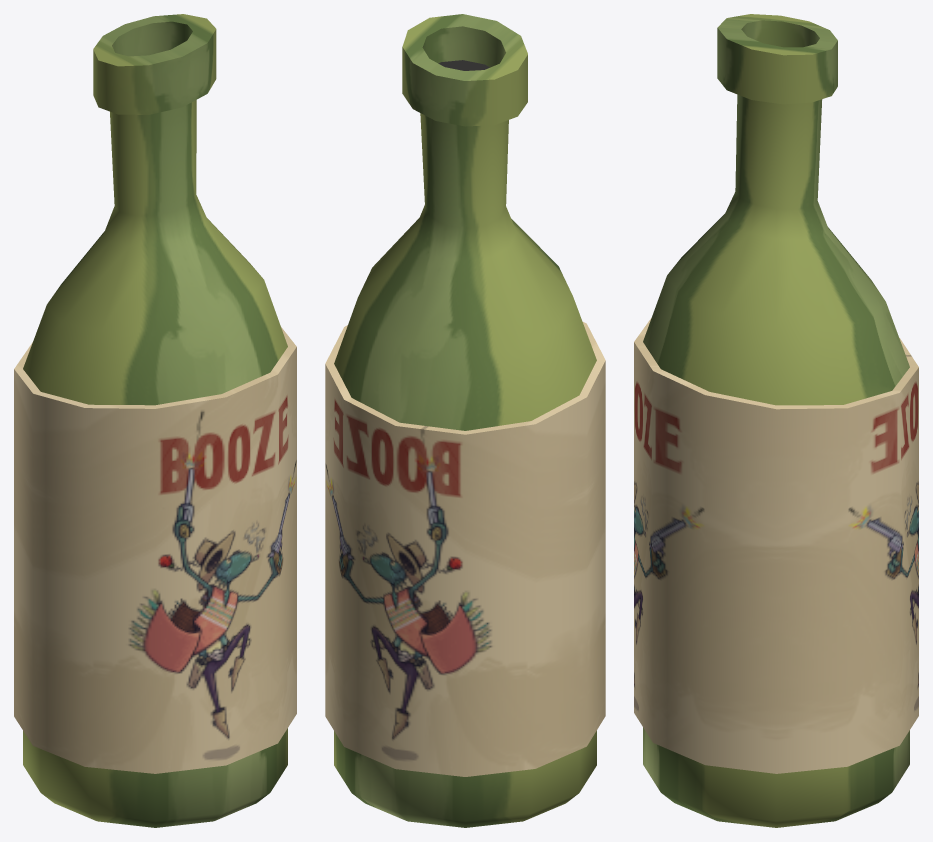
The model's file is Beer.fbx.
3 renders of one model, left to right at view 1: azimuth 30°, elevation 25°; view 2: azimuth 150°, elevation 25°; view 3: azimuth 270°, elevation 25°, orthographic.
Parts seen in each view (by area): view 1: Beer; view 2: Beer; view 3: Beer.
Part boxes in pixels (bbox=[...]): Beer: bbox=[14, 14, 296, 827]; Beer: bbox=[325, 14, 605, 827]; Beer: bbox=[634, 14, 918, 827].
Size of the model in its own units: 12.01 by 35 by 12.01.
